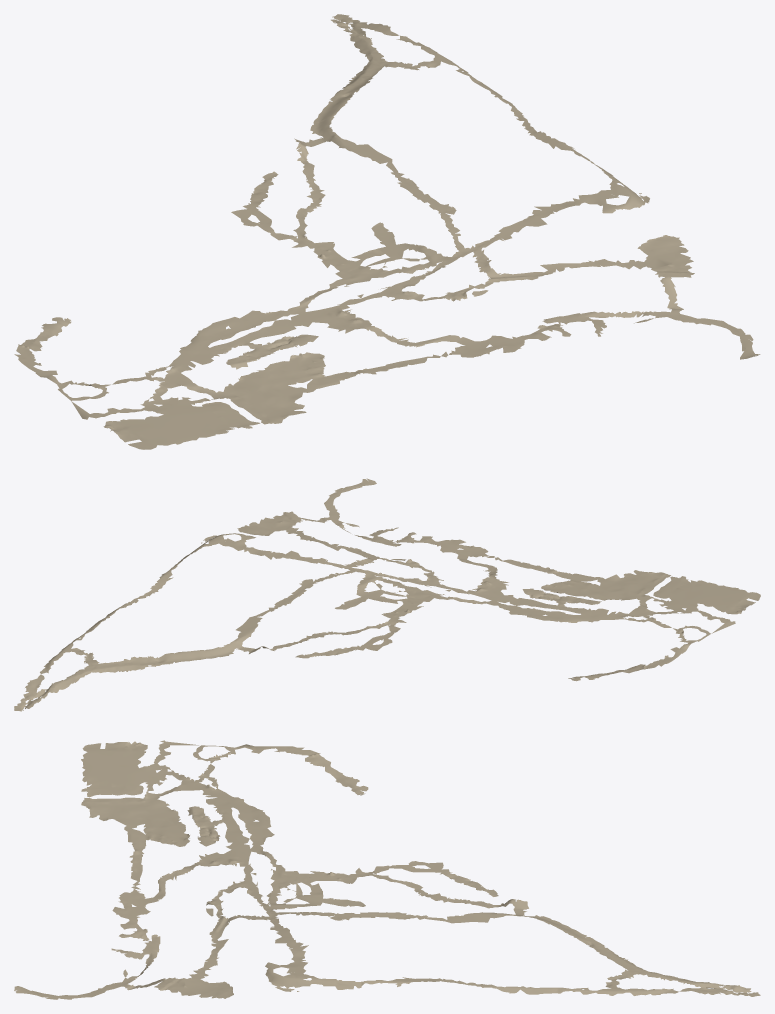
File: Road.fbx
3 renders of one model, top to bottom at view 1: azimuth 30°, elevation 25°; view 2: azimuth 150°, elevation 25°; view 3: azimuth 270°, elevation 25°, orthographic. The views are drawn at different scales.
Parts seen in each view (by area): view 1: a1Map; view 2: a1Map; view 3: a1Map.
Part boxes in pixels (x1,y1,x2,y2): a1Map: (14, 14, 760, 449); a1Map: (14, 478, 760, 711); a1Map: (14, 740, 760, 999).
Size of the model in its own units: 31743 by 1799 by 38356.
